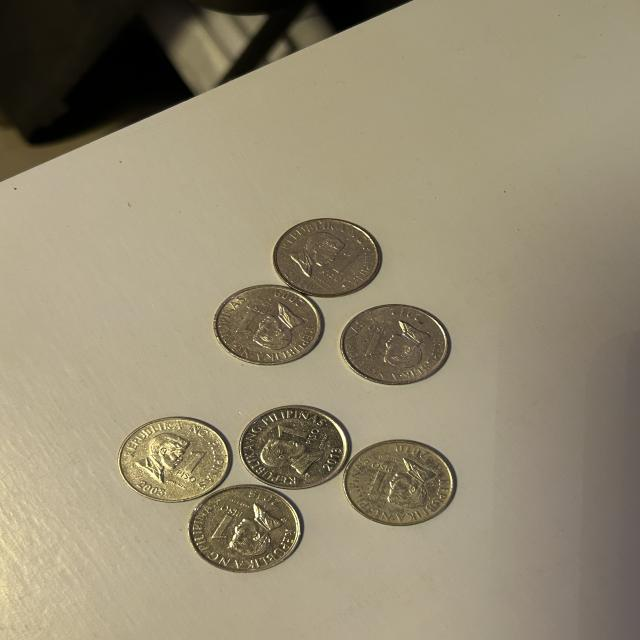1_Old_Front: (270, 418, 322, 452), (172, 451, 210, 493), (204, 503, 239, 544), (365, 459, 394, 505), (322, 252, 356, 288), (361, 322, 388, 359), (237, 298, 260, 340)
